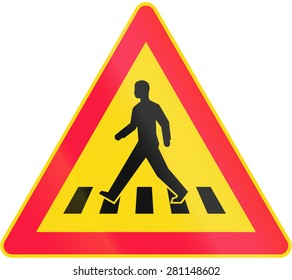pedestrian: (17, 5, 290, 258)
